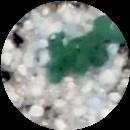Basil: (80, 38, 124, 68), (49, 39, 69, 80), (63, 44, 90, 73), (99, 17, 126, 45)
